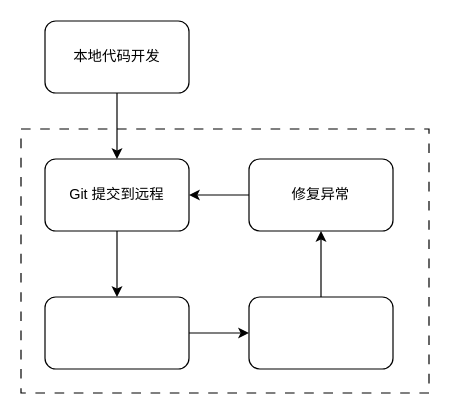
Image size: 450x414. Some labels were removed from this diagram. The box of each missing label's shape, as (x1, y1, x2, y2) in pixels:
Web Sonar 查看结果: (248, 296, 393, 369)
蓝鲸构建: (44, 296, 189, 369)
